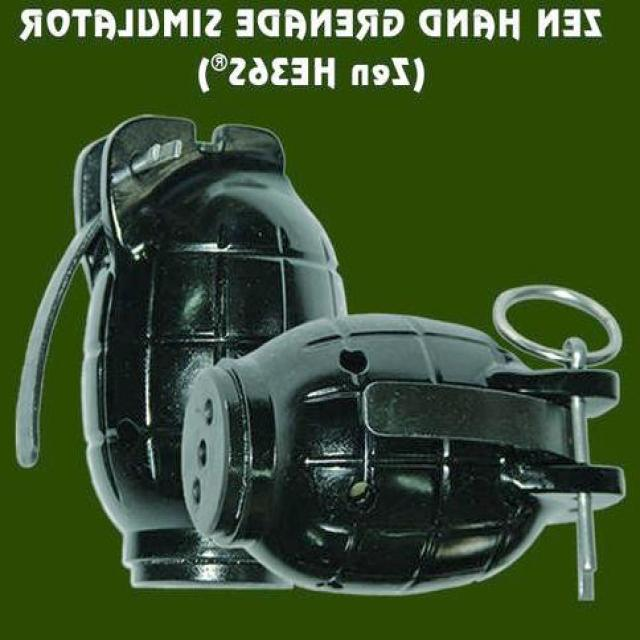grenade: (16, 115, 349, 590), (182, 287, 627, 604)
